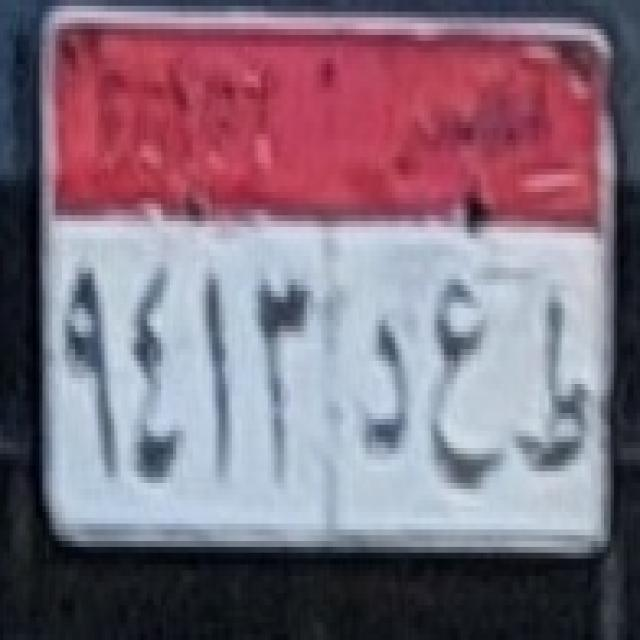1: (197, 270, 244, 483)
3: (250, 266, 316, 491)
4: (124, 261, 184, 489)
9: (64, 262, 124, 484)
Een: (424, 289, 504, 491)
Taa: (514, 297, 598, 488)
daal: (356, 307, 417, 459)
